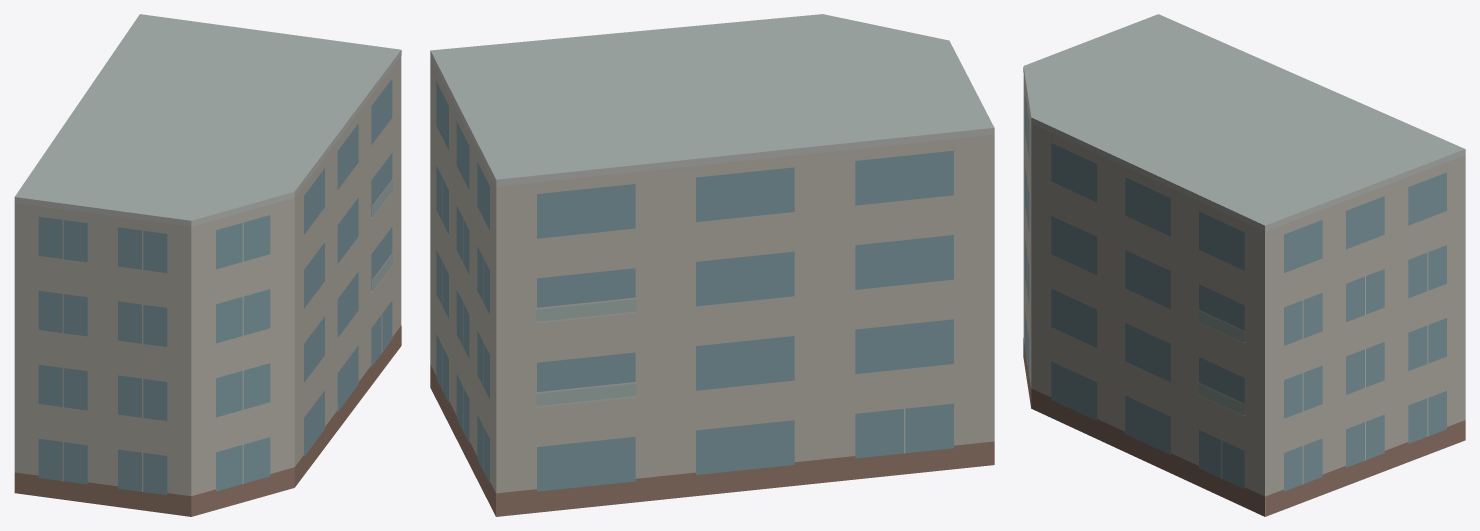
File: survey-upis-32816419.glb
3 renders of one model, left to right at view 1: azimuth 30°, elevation 25°; view 2: azimuth 150°, elevation 25°; view 3: azimuth 270°, elevation 25°, orthographic. The views are drawn at different scales.
Parts seen in each view (by area): view 1: survey-upis-32816419.tmp; view 2: survey-upis-32816419.tmp; view 3: survey-upis-32816419.tmp.
Boxes of the visible parts, <box> form: survey-upis-32816419.tmp: <box>14,14,401,516</box>; survey-upis-32816419.tmp: <box>430,14,994,516</box>; survey-upis-32816419.tmp: <box>1023,14,1465,516</box>.
Size of the model in its own units: 18.87 by 12.1 by 16.66.
